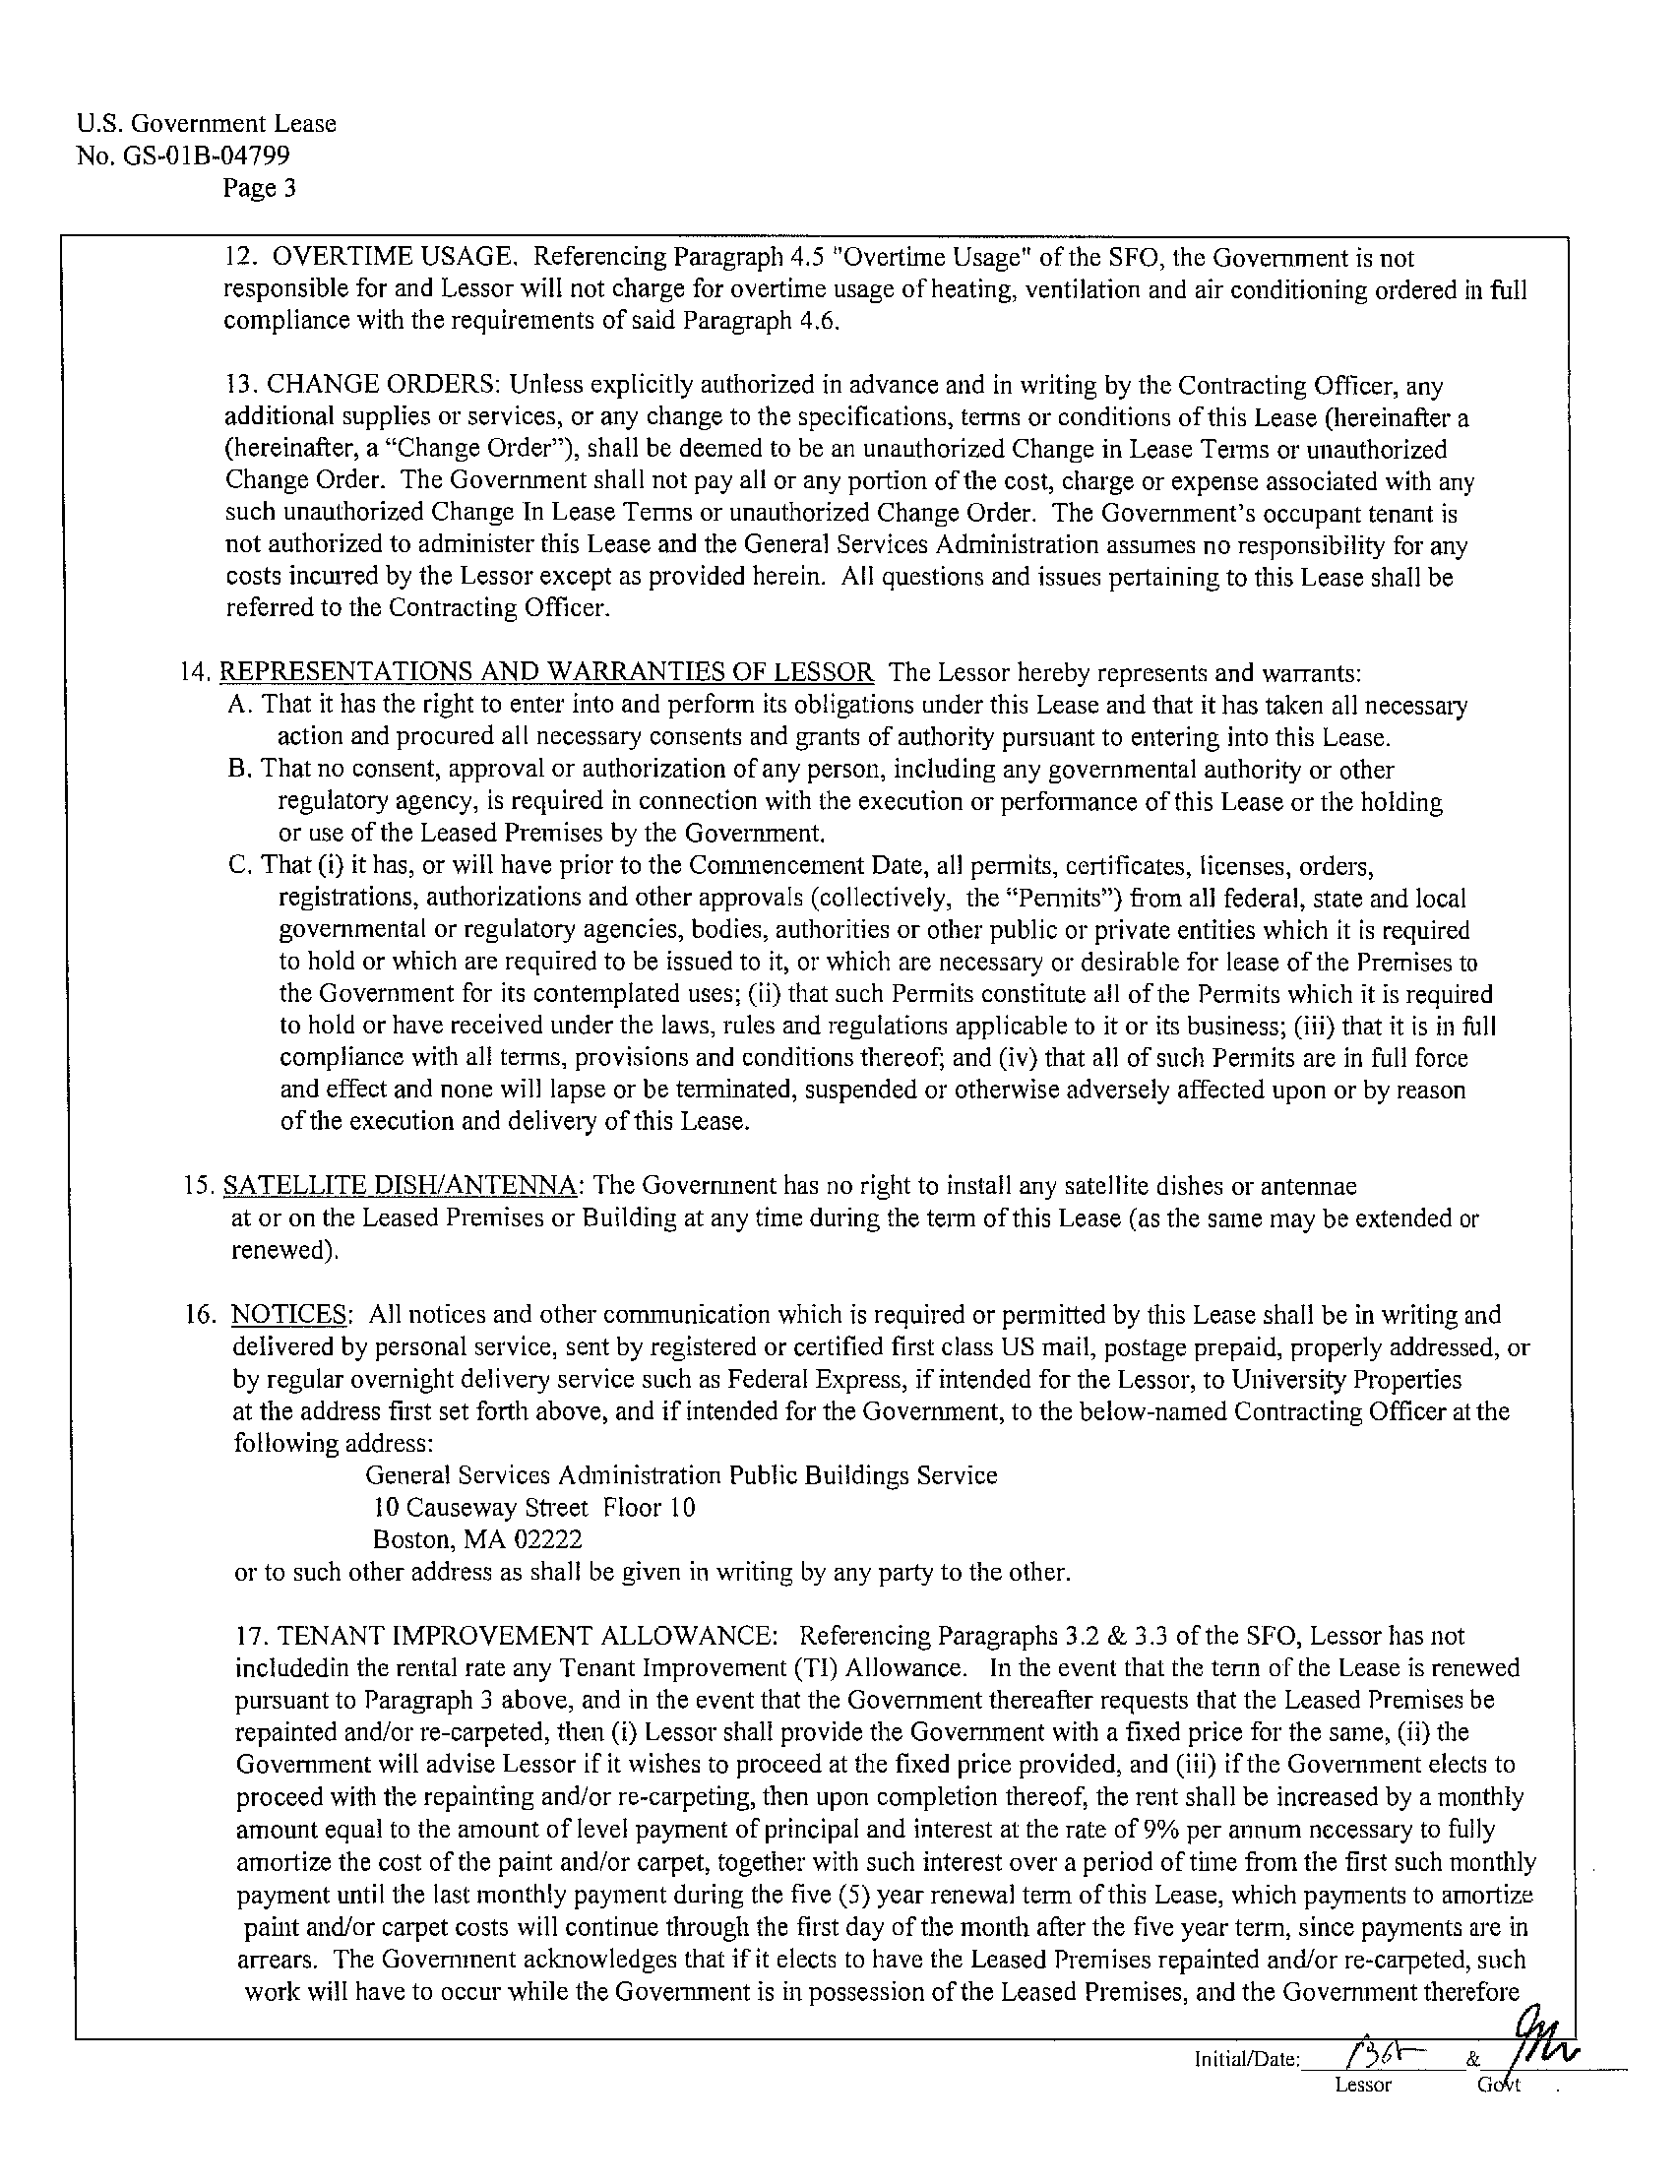handwritten: (1489, 1985, 1611, 2080), (1338, 2018, 1428, 2082)
